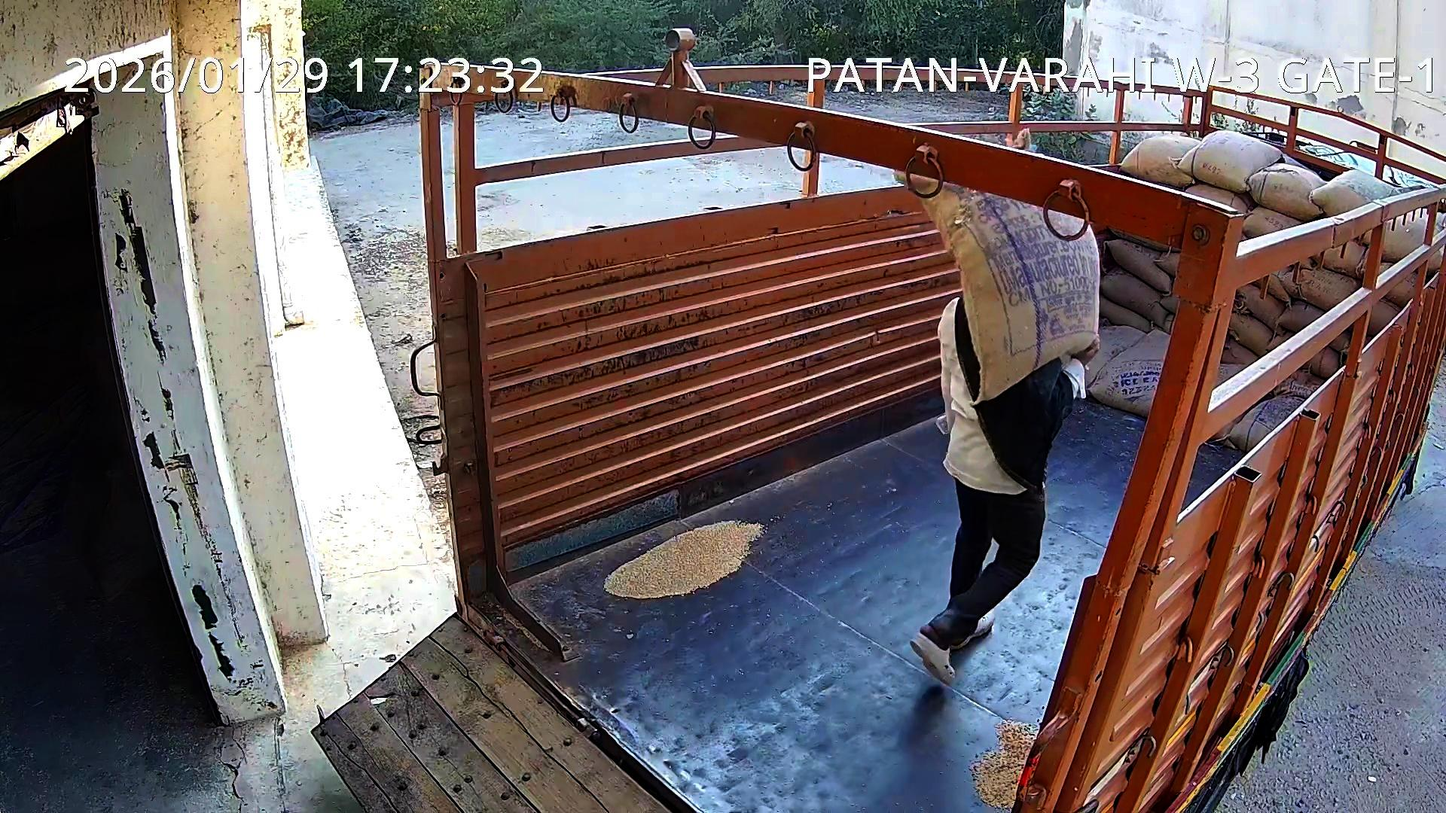Sack: (920, 183, 1100, 396)
